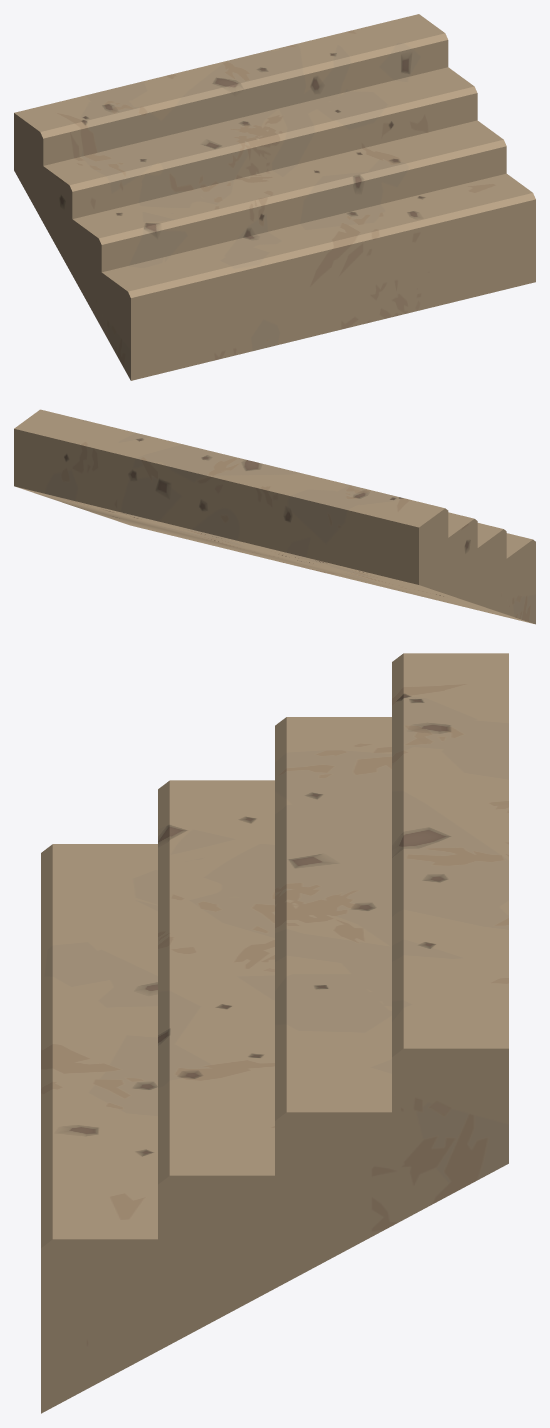
File: SM_Bld_Stair_Half_01.fbx
3 renders of one model, top to bottom at view 1: azimuth 30°, elevation 25°; view 2: azimuth 150°, elevation 25°; view 3: azimuth 270°, elevation 25°, orthographic. The views are drawn at different scales.
Parts seen in each view (by area): view 1: SM_Bld_Stair_Half_01; view 2: SM_Bld_Stair_Half_01; view 3: SM_Bld_Stair_Half_01.
Boxes of the visible parts, x1=… form: SM_Bld_Stair_Half_01: x1=14, y1=14, x2=535, y2=380; SM_Bld_Stair_Half_01: x1=14, y1=409, x2=535, y2=624; SM_Bld_Stair_Half_01: x1=41, y1=653, x2=508, y2=1413.
Size of the model in its own units: 250 by 108 by 125.
